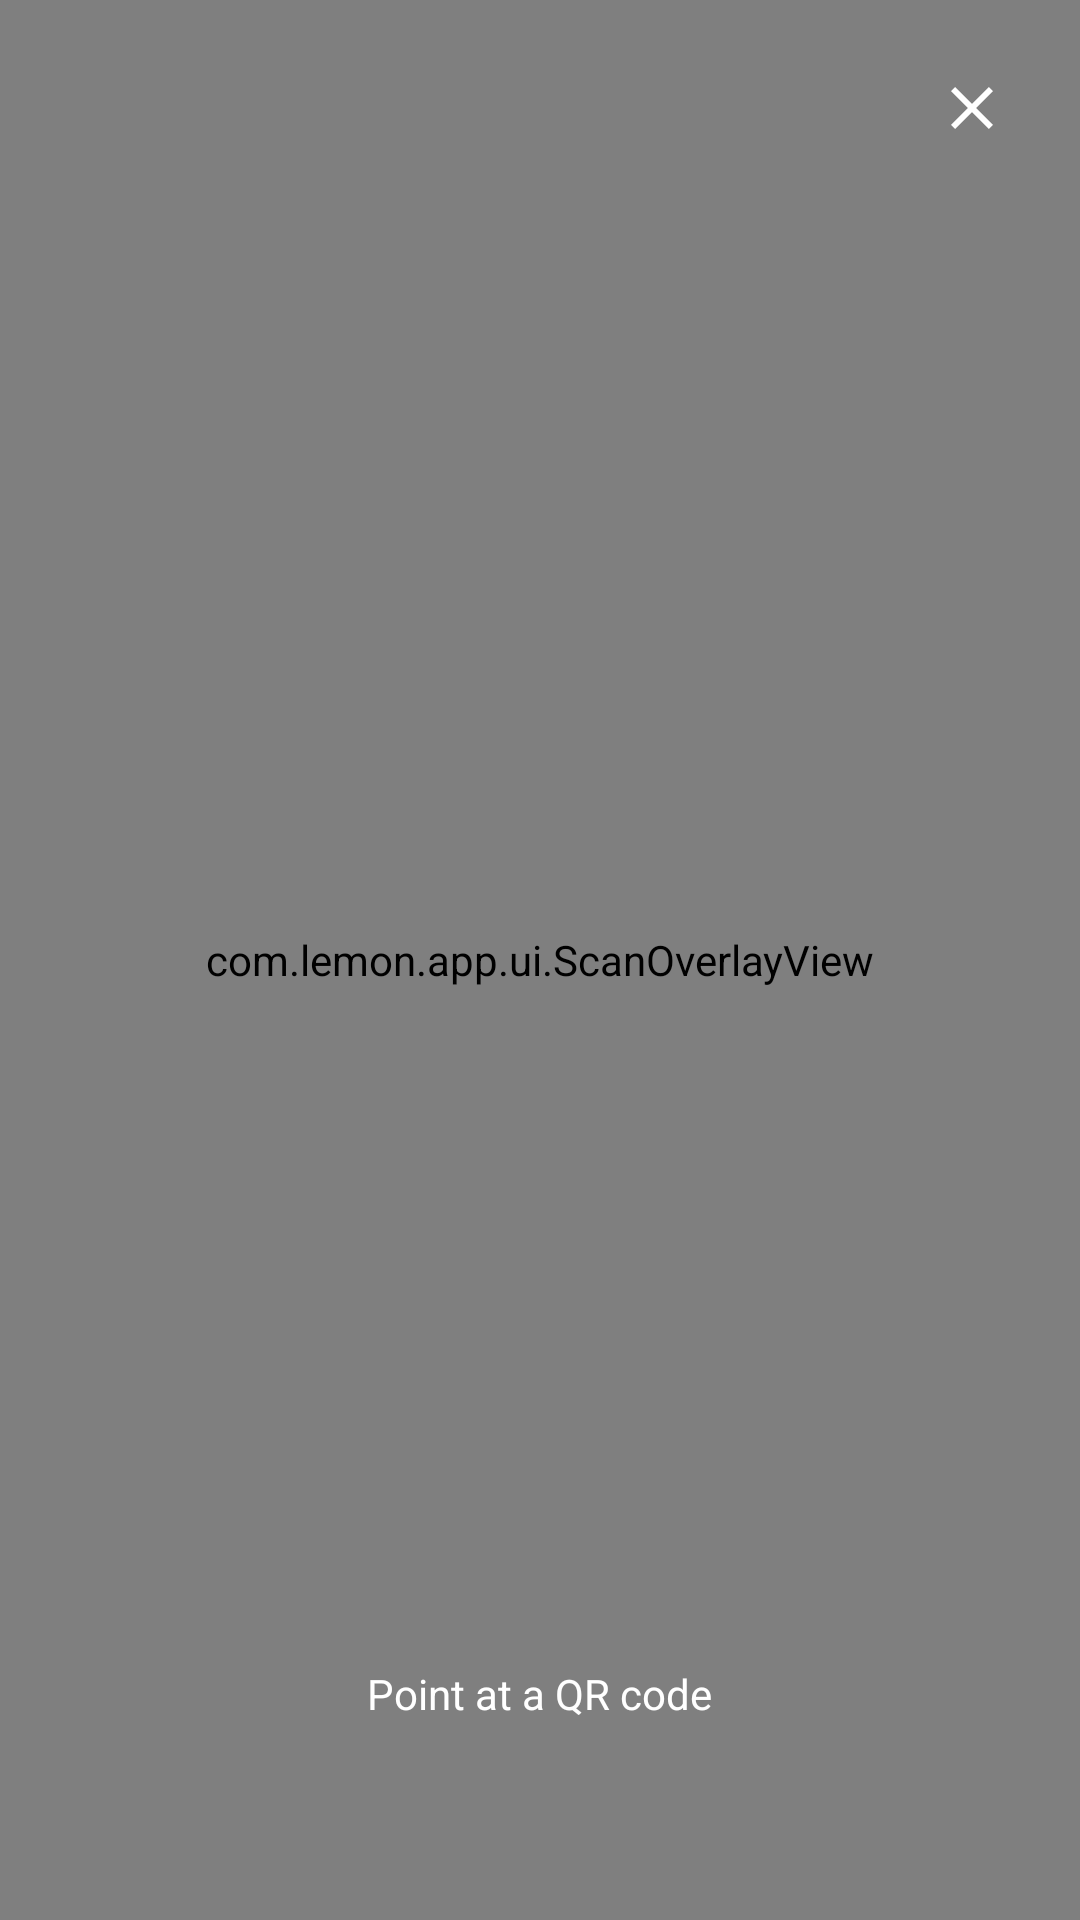

Screen size 1080 x 1920. Icon name, then its box in pixels as (x1, y1, x2, y2):
Cancel: (951, 87, 993, 129)
